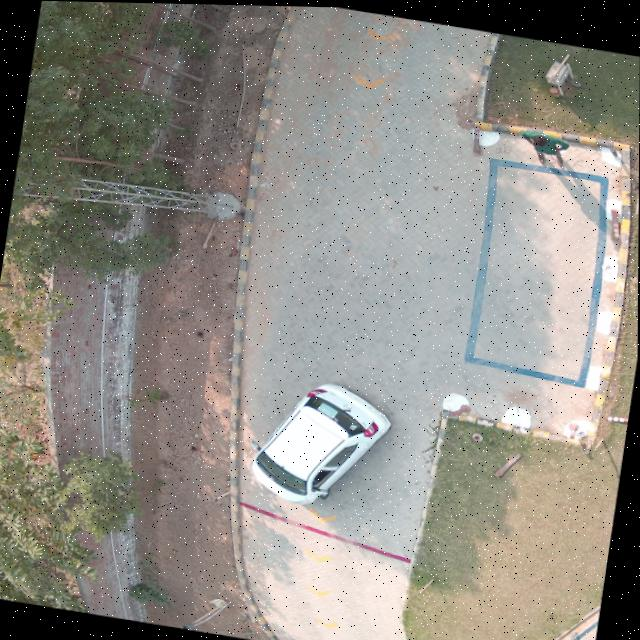car: (252, 381, 391, 502)
